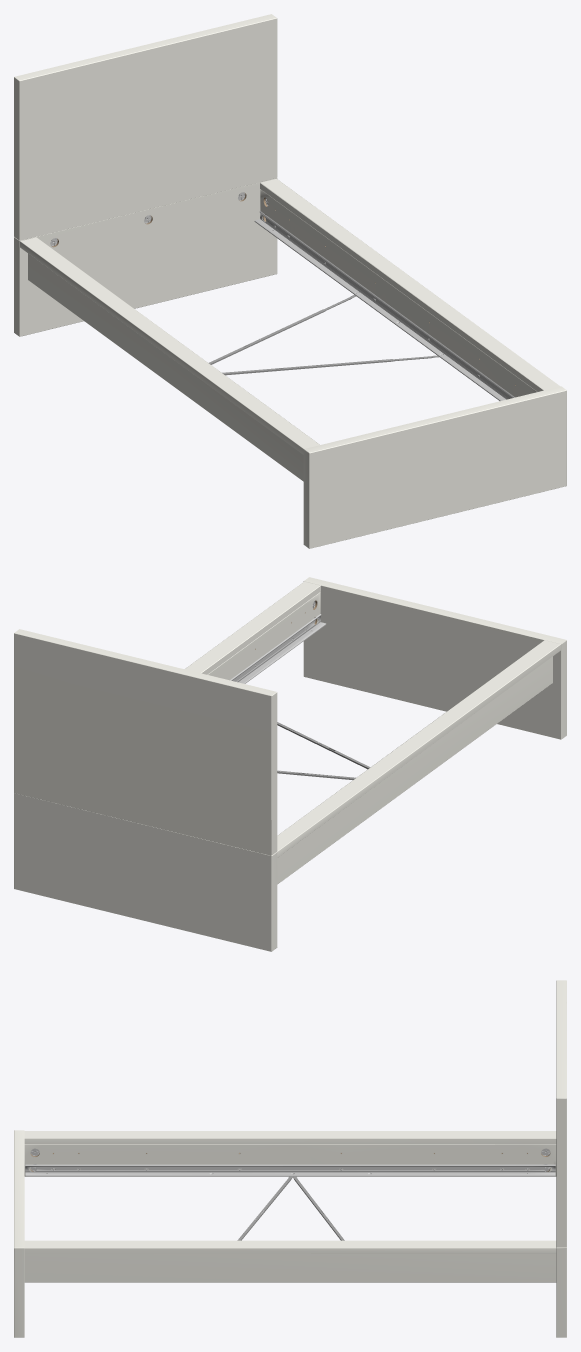
Rendered from 10 - MALM Bed frame, high - white 90x200 cm.glb.
3 views of the same model, one above another, from view 1: azimuth 30°, elevation 25°; view 2: azimuth 150°, elevation 25°; view 3: azimuth 270°, elevation 25° (orthographic). The views are drawn at different scales.
Visible parts, largest first — view 1: Mesh_0; view 2: Mesh_0; view 3: Mesh_0.
Boxes of the visible parts, <box> form: Mesh_0: <box>14,14,566,548</box>; Mesh_0: <box>14,577,566,951</box>; Mesh_0: <box>14,980,566,1337</box>.
Bounding box in the file's own units: 1.05 × 1 × 2.09.
Materials: 1 (1 with a texture image).
